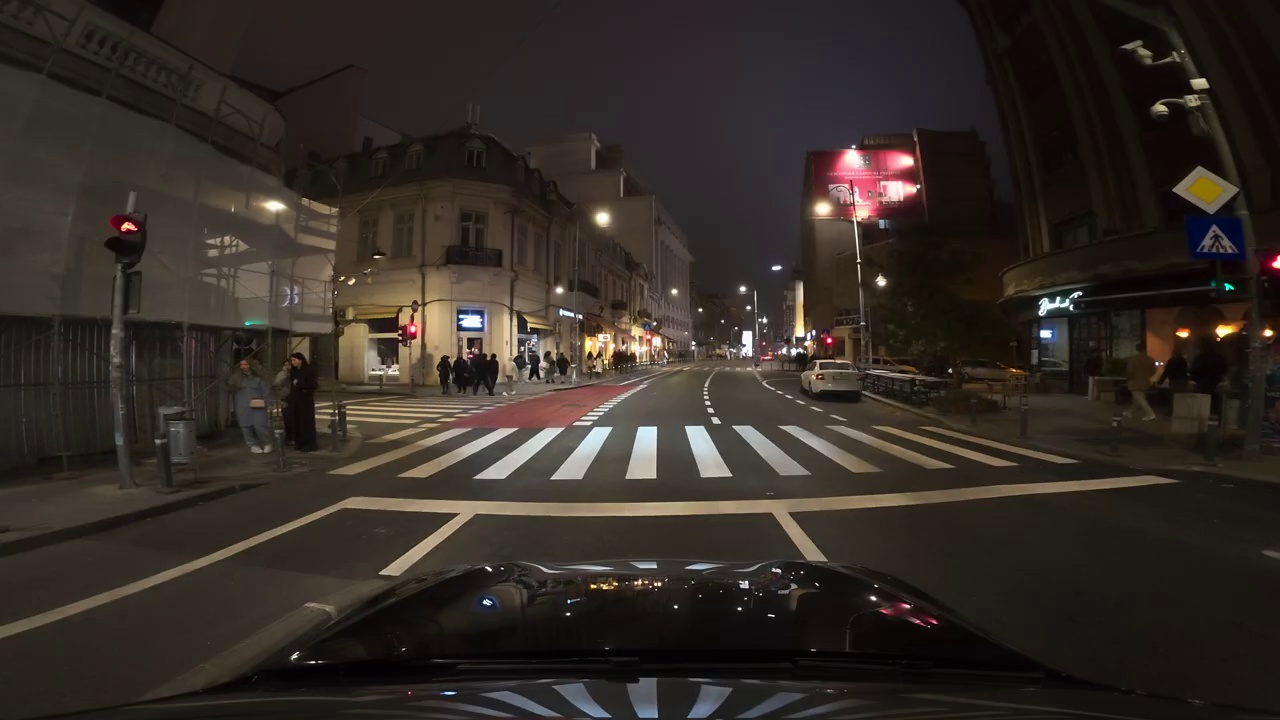acesa: (591, 207, 615, 231), (839, 150, 864, 172), (259, 199, 285, 219), (812, 197, 834, 220), (870, 273, 890, 293)
